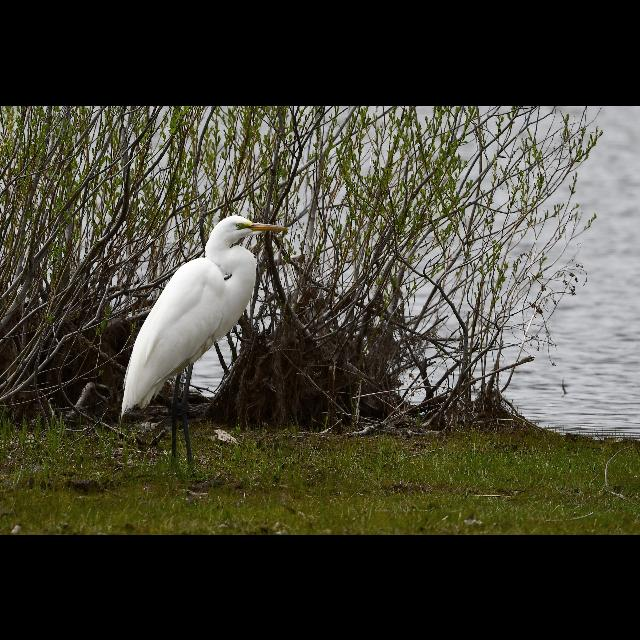egret: (118, 212, 292, 468)
